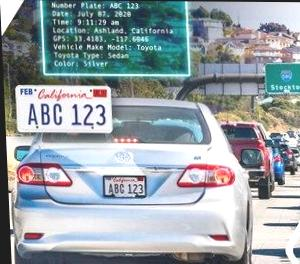License_Plate: (13, 83, 112, 133), (103, 174, 145, 197)
